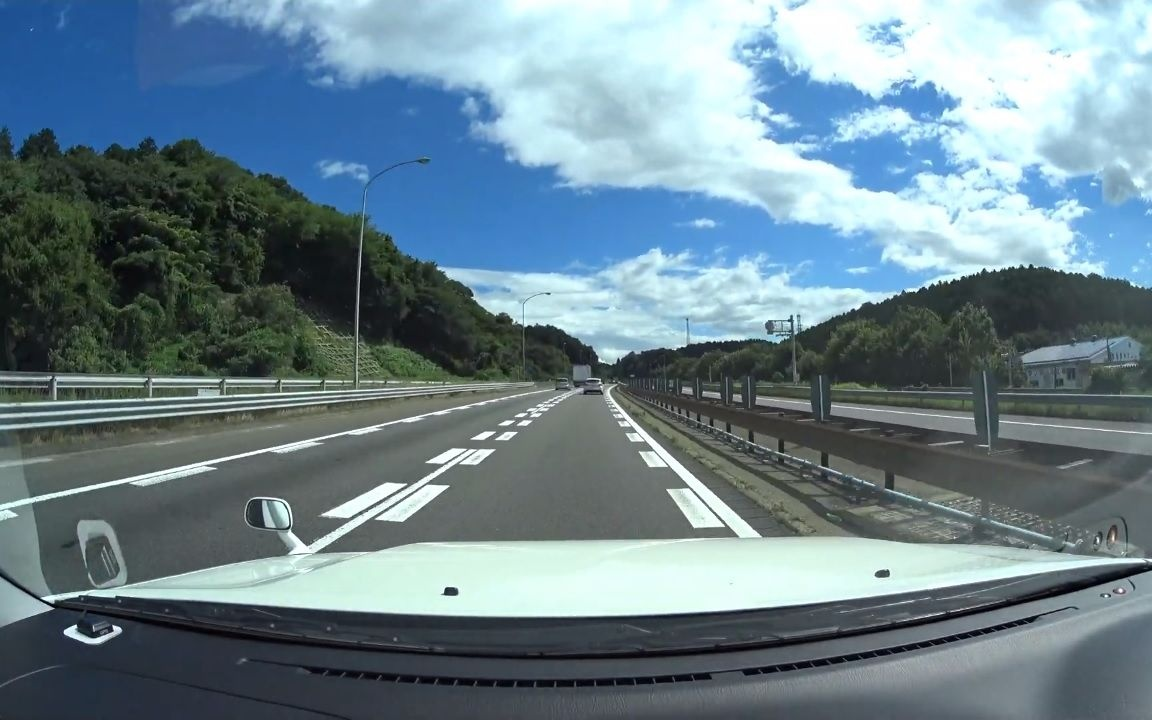lane: (315, 393, 529, 543), (600, 399, 759, 537), (106, 454, 236, 500), (334, 413, 457, 434), (252, 433, 325, 466), (538, 390, 574, 422)
